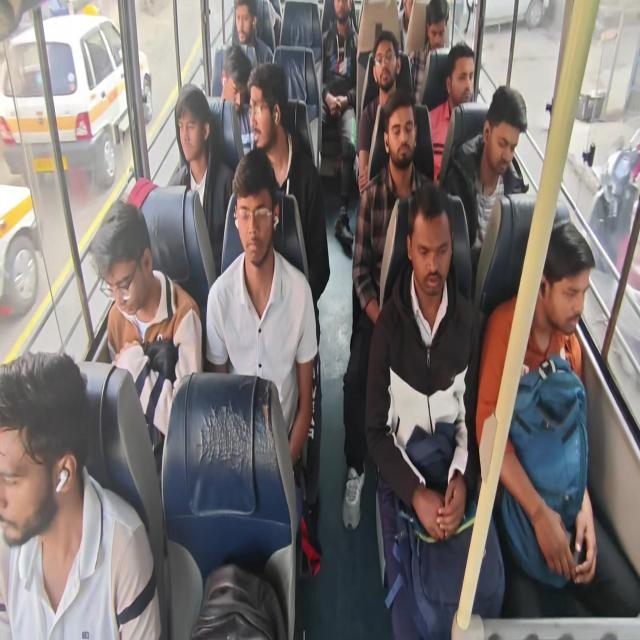person: (1, 357, 84, 541), (91, 219, 169, 326), (398, 191, 460, 304), (223, 182, 276, 281), (377, 90, 427, 175), (540, 239, 584, 331), (246, 78, 292, 162), (481, 96, 525, 178), (165, 96, 205, 160), (449, 48, 478, 115), (367, 41, 403, 90), (424, 2, 450, 51), (215, 59, 242, 103), (228, 3, 258, 42), (329, 0, 352, 33)
